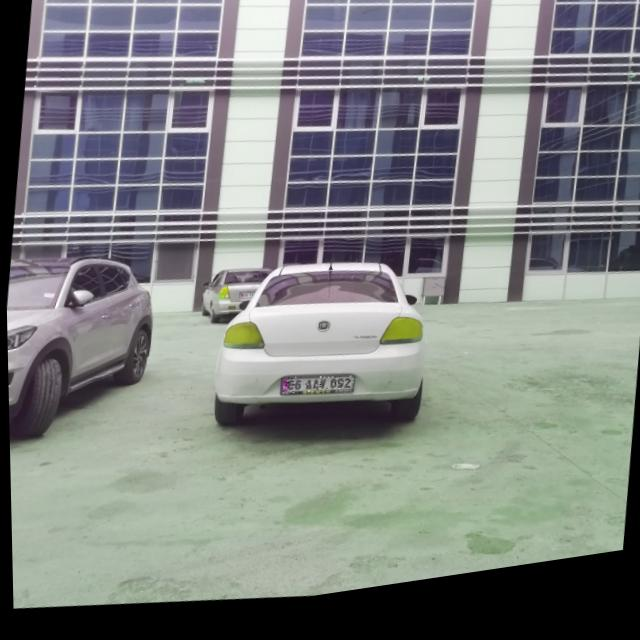license_plate: (278, 378, 352, 409)
